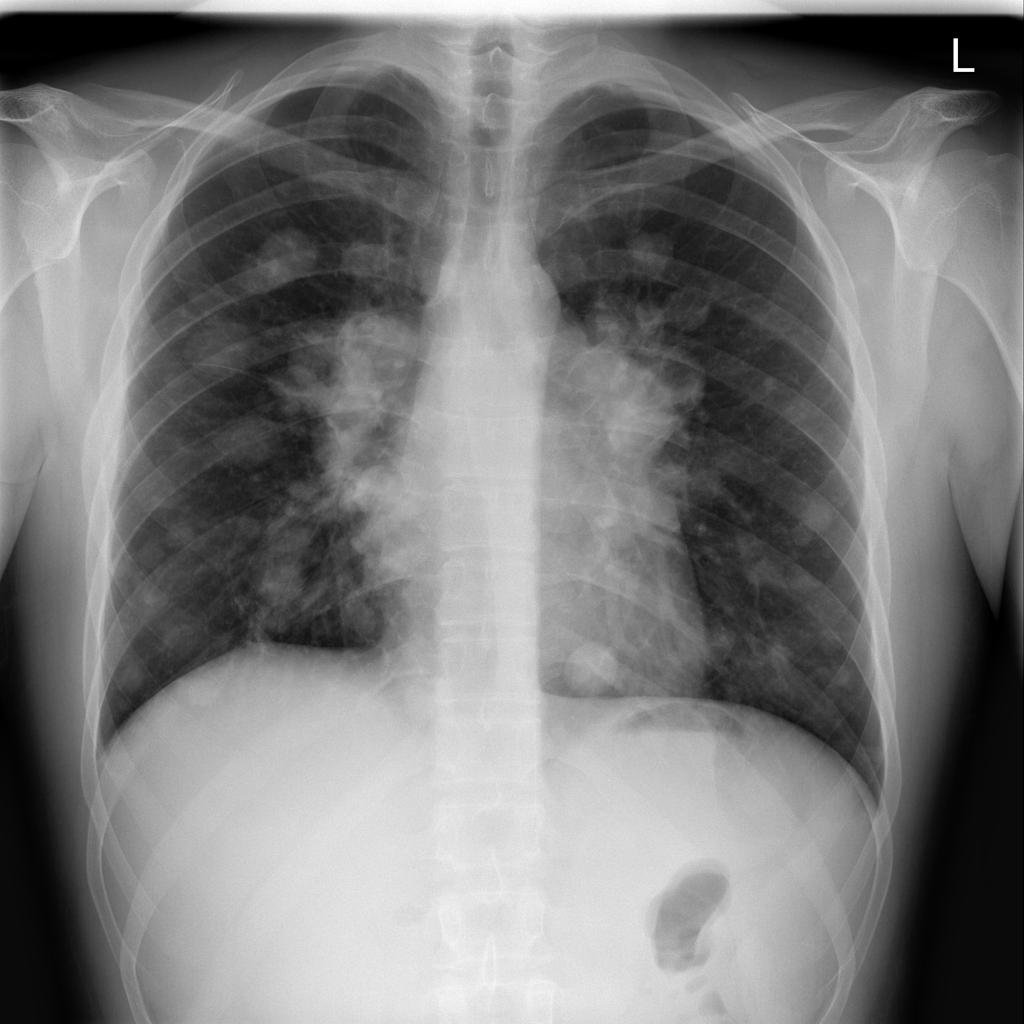nodule: (225, 497, 328, 617), (228, 208, 332, 314), (176, 311, 263, 388), (199, 406, 286, 480), (556, 628, 631, 706), (332, 226, 411, 298), (777, 478, 849, 554), (242, 551, 315, 625), (615, 215, 686, 288), (652, 275, 728, 342), (727, 533, 798, 604), (141, 607, 219, 670), (165, 647, 235, 717), (141, 505, 211, 570), (811, 613, 860, 668), (103, 646, 155, 697), (126, 564, 178, 614), (817, 651, 867, 701), (787, 554, 837, 603)
